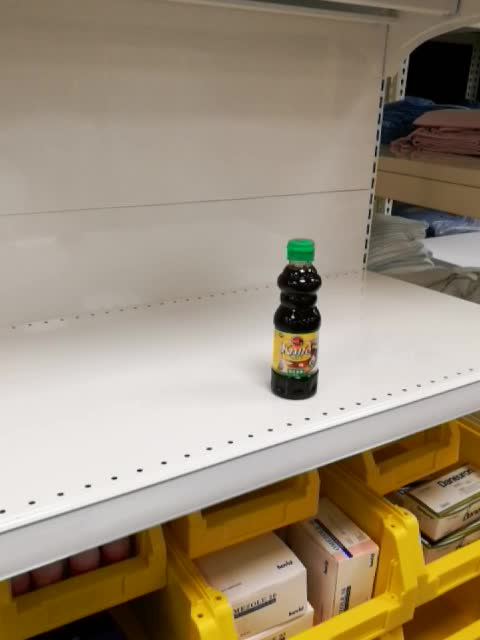cookingoil: (269, 236, 323, 401)
